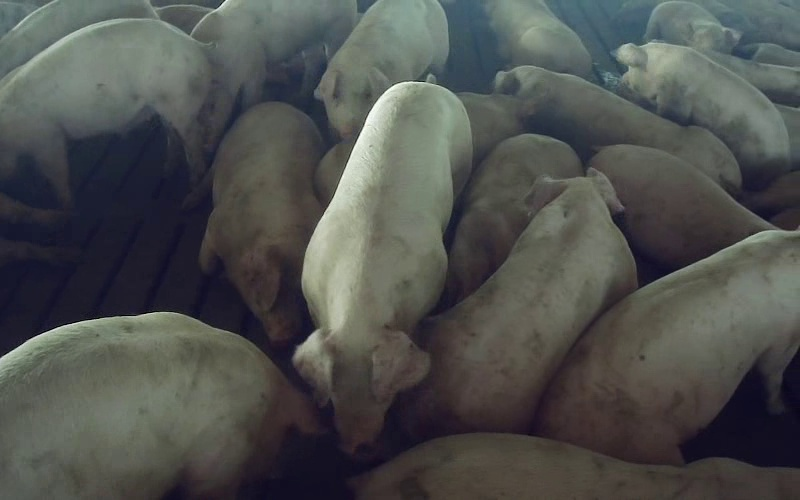pig: (294, 83, 471, 452), (534, 231, 799, 464), (0, 312, 317, 499), (0, 19, 210, 208), (185, 102, 323, 343), (496, 66, 741, 193), (351, 433, 799, 499), (617, 42, 789, 189), (441, 134, 583, 307), (589, 145, 774, 268), (486, 0, 591, 78)
